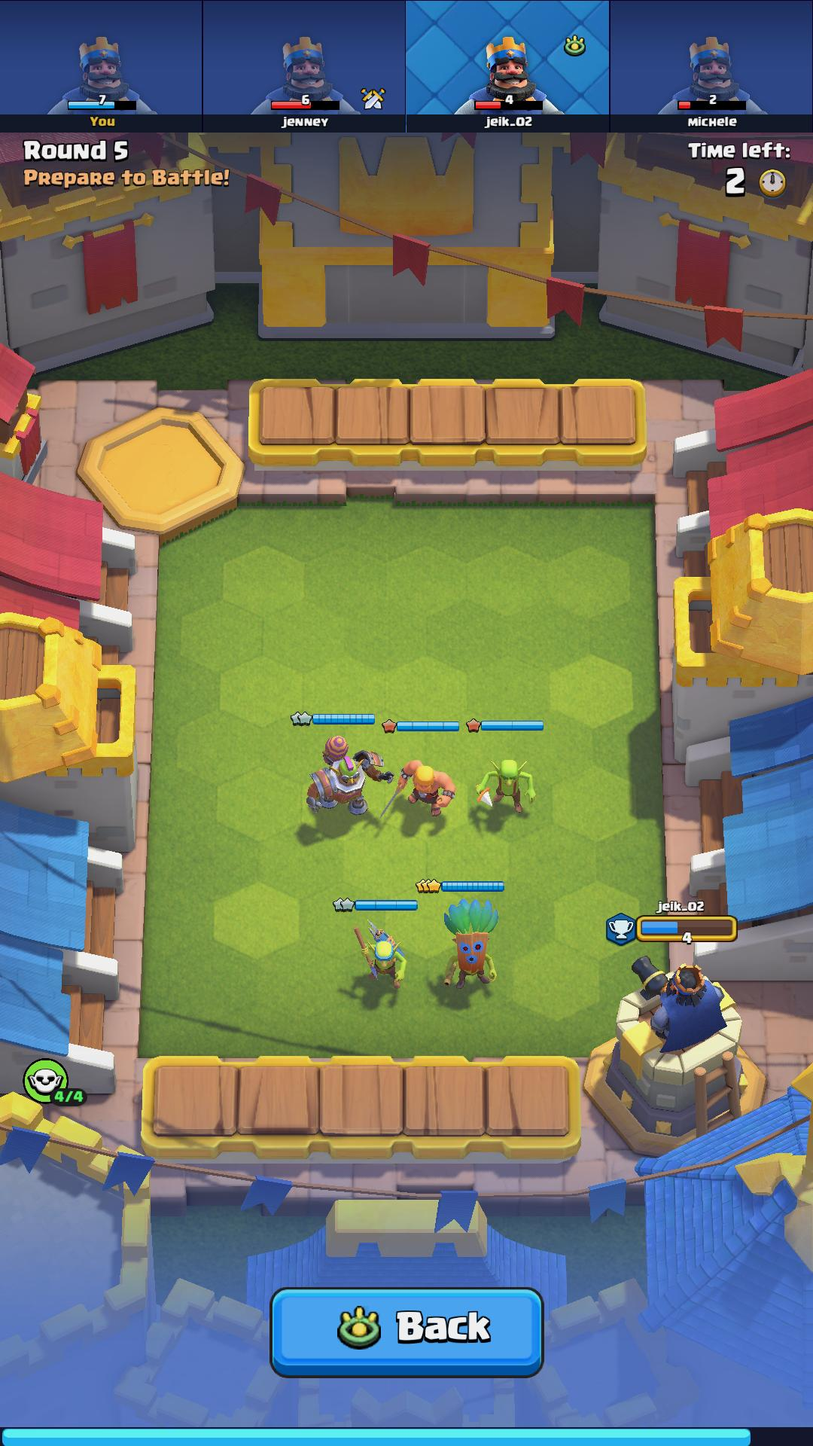barbarian: (388, 752, 459, 822)
dart: (435, 897, 498, 993)
goblin: (465, 748, 537, 816)
machine: (302, 731, 394, 822)
spear: (330, 918, 420, 995)
